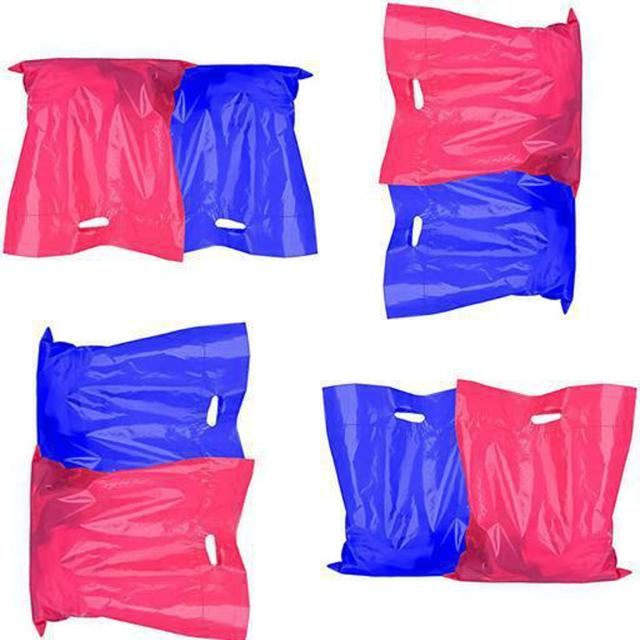Single-layer Plastic: (30, 451, 254, 640), (4, 59, 192, 260), (380, 4, 581, 192), (450, 380, 636, 582), (38, 324, 249, 471), (384, 171, 575, 318), (324, 384, 469, 576), (171, 65, 316, 256)
